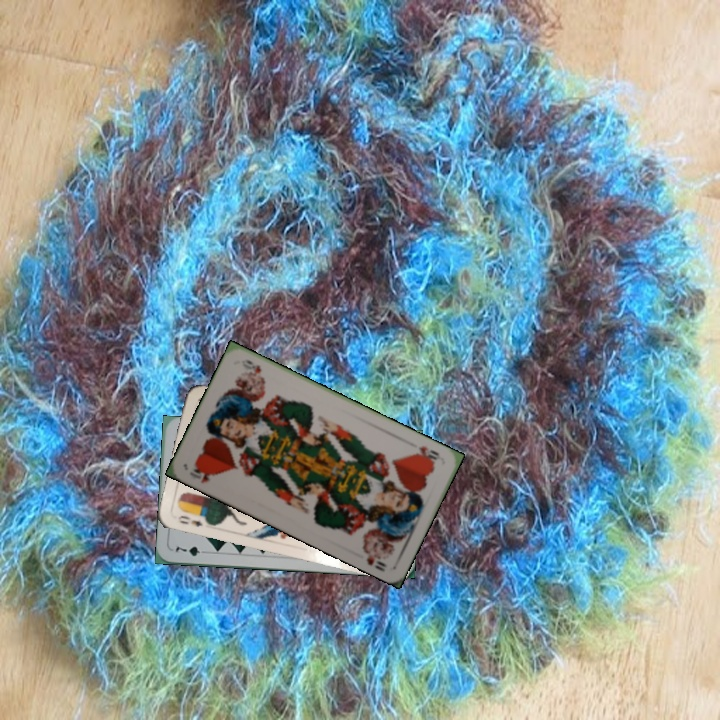EO: (174, 511, 211, 529)
G7: (172, 542, 211, 559)
HO: (186, 461, 217, 486), (411, 442, 442, 466)
